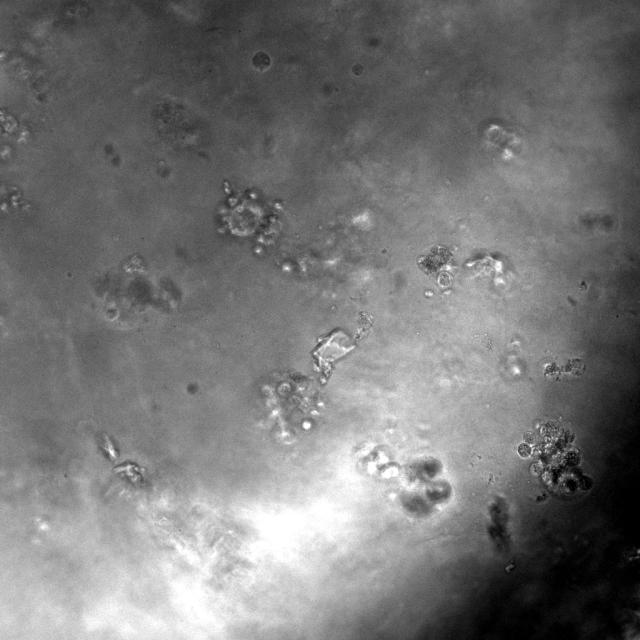organoid: (517, 415, 595, 498), (218, 181, 281, 255), (417, 246, 452, 289), (252, 51, 271, 72), (423, 288, 436, 299)
